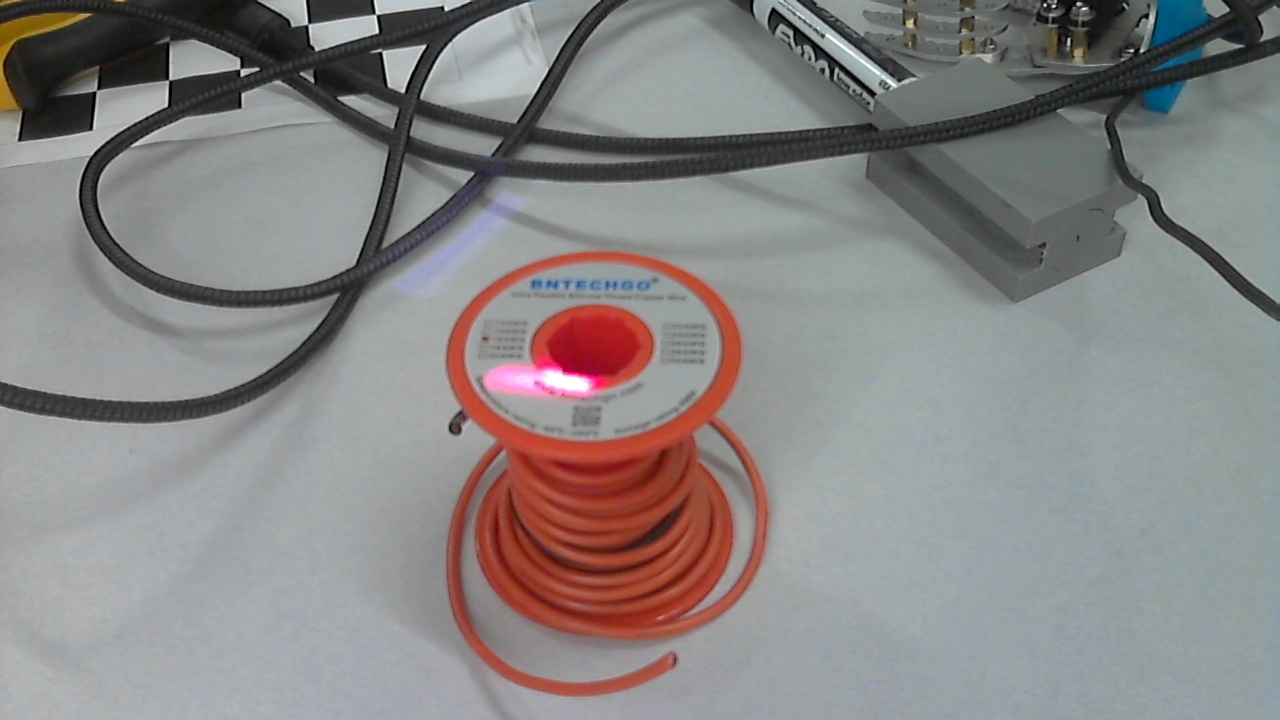Object wire spool -Material plastic - Color oranges - Pdfname ZryFz3DBSiO8: (468, 334, 617, 414)
